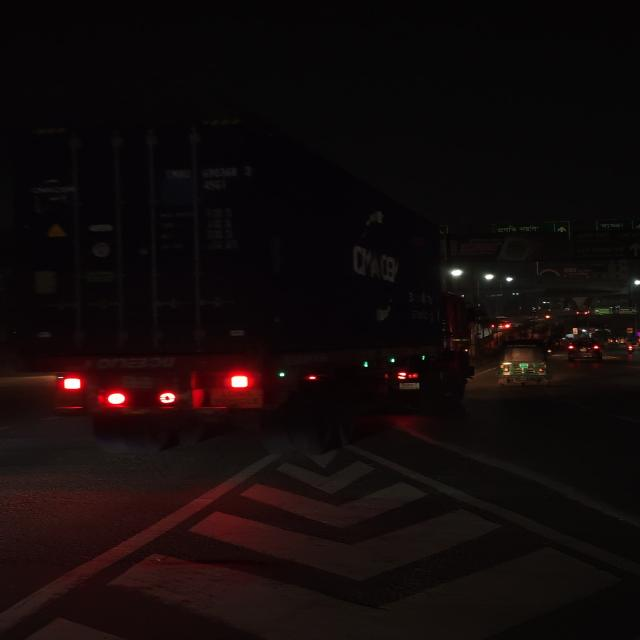car: (566, 338, 606, 363)
cng: (493, 338, 556, 388)
truck: (2, 104, 477, 431)
